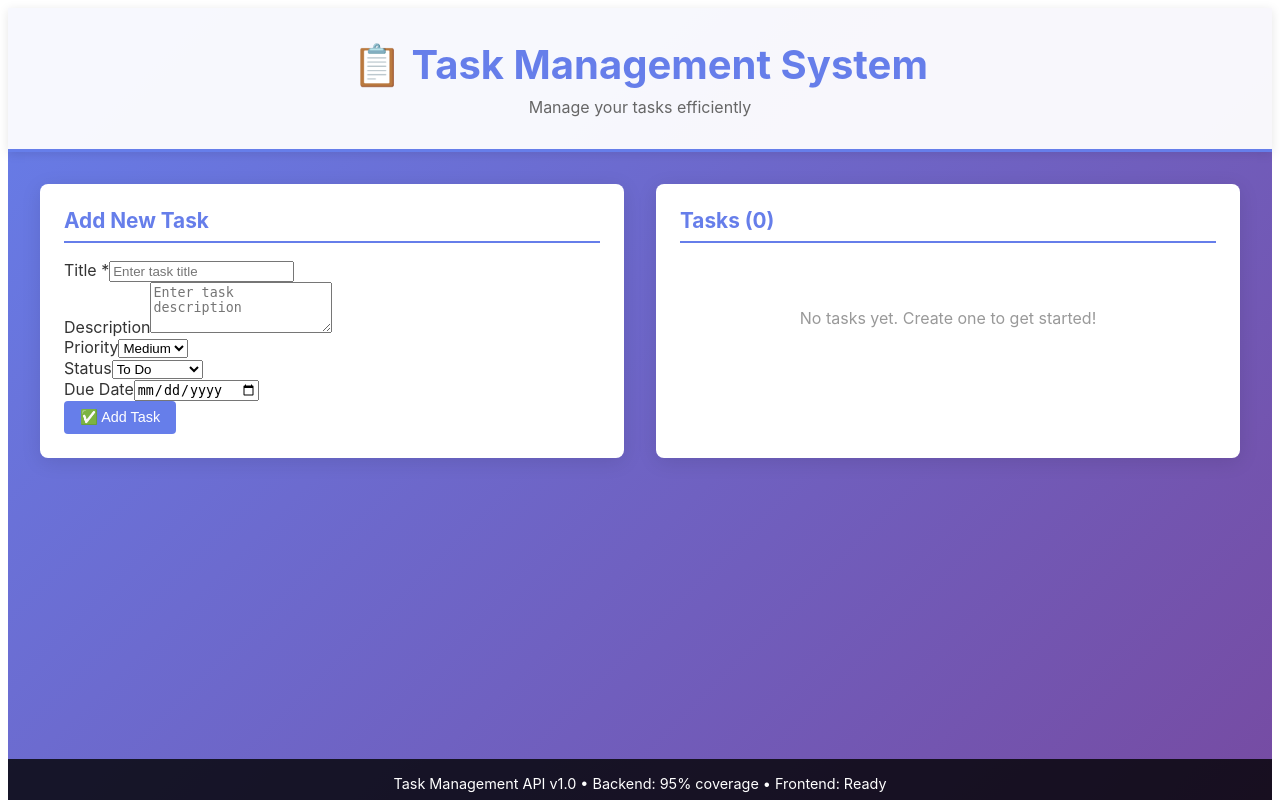
Test: App Component › should display error when create task fails
In the field with placeholder "Enter task title": [202, 272] box x1=109 y1=261 x2=294 y2=282, type "Test Task"
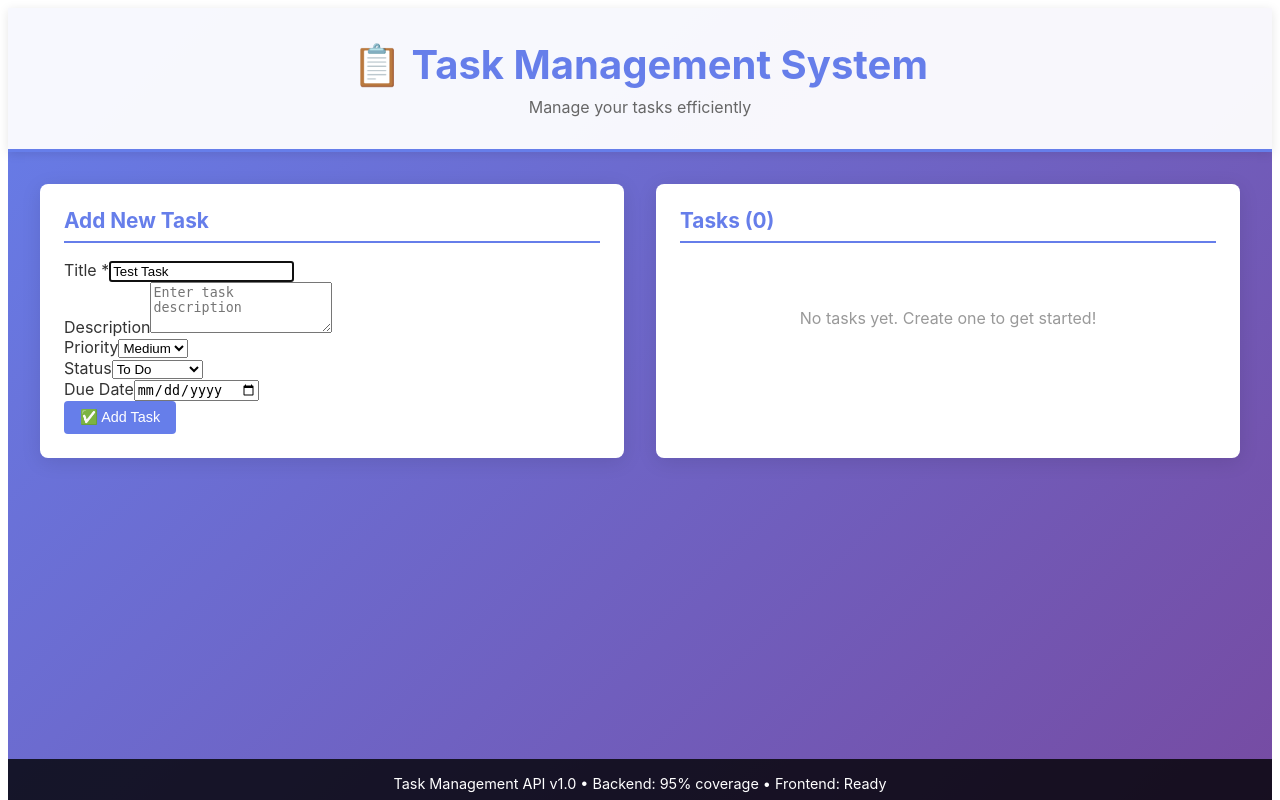
Click the button "✅ Add Task": [120, 418] box x1=64 y1=401 x2=176 y2=434
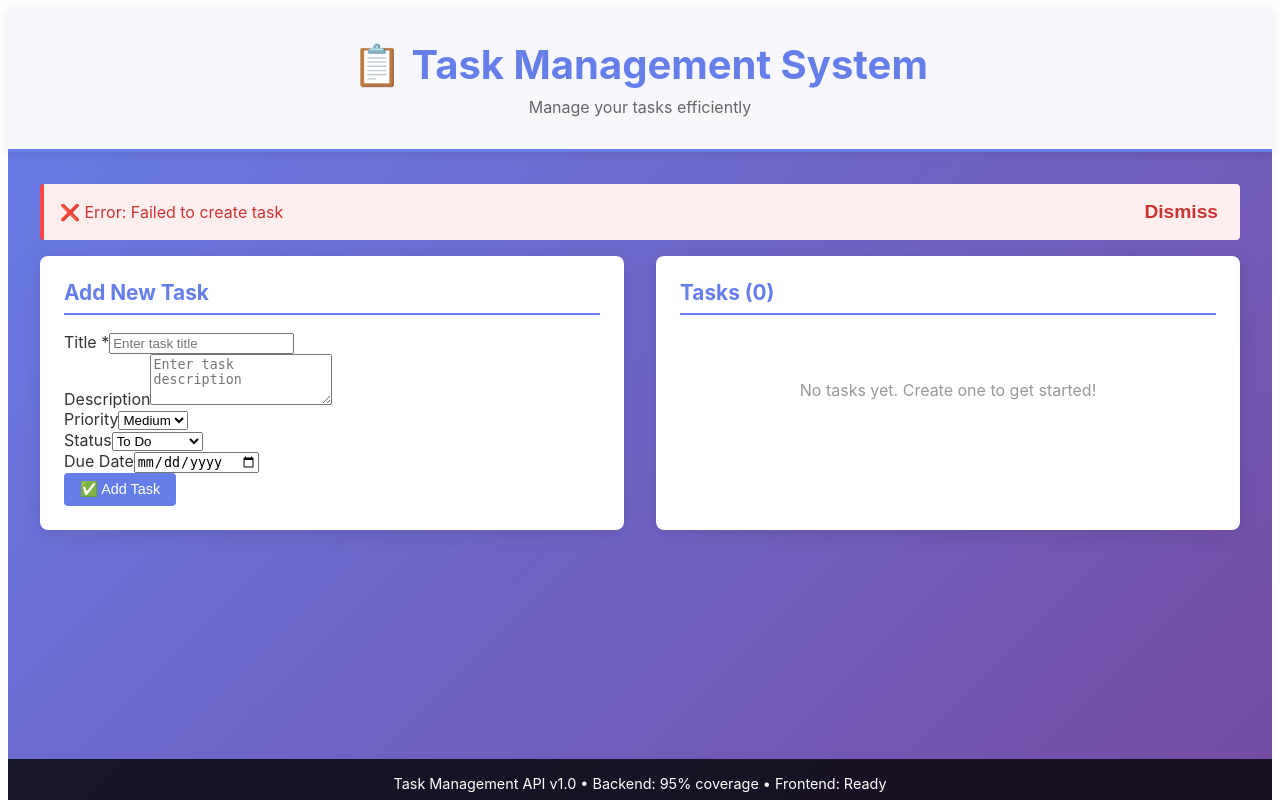
expect the text "❌ Error: Failed to create task" is shown: met, box x1=60 y1=202 x2=283 y2=222
